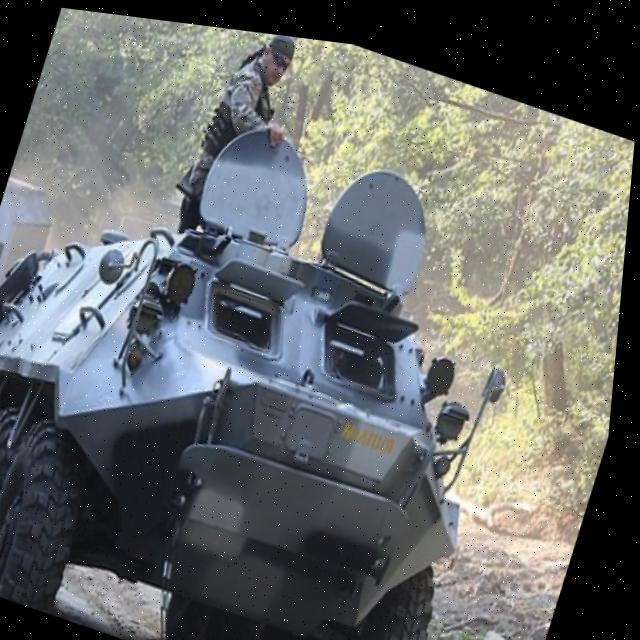MIL_APC: (0, 165, 564, 640)
